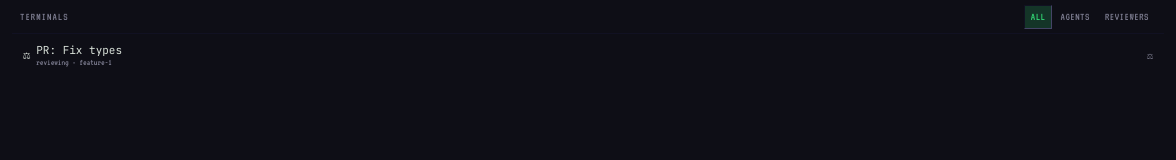
Test: AgentTerminalList › rendering reviewer items › hides reviewer items when filter is AGENTS
The image size is (1176, 160).
Click the tab "AGENTS" at (1075,17), box [1054, 5, 1097, 29]
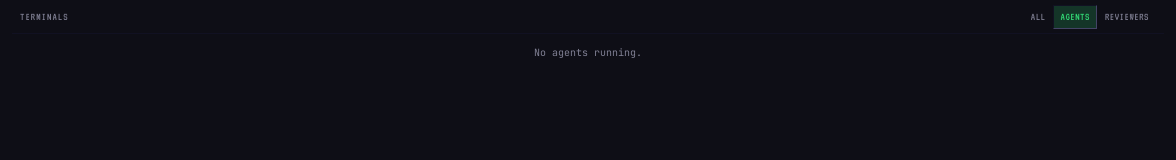
Expected: the button "PR: Fix types" is gone
